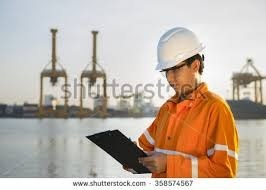helmet: (152, 23, 208, 73)
person with partial safety: (137, 23, 242, 178)
